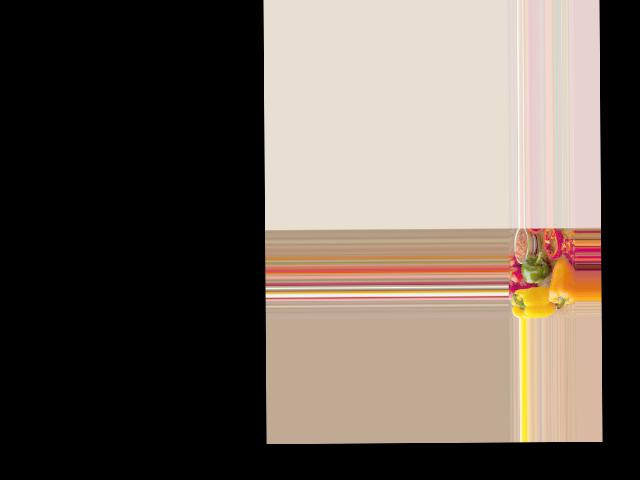bell_pepper: (511, 285, 547, 318)
